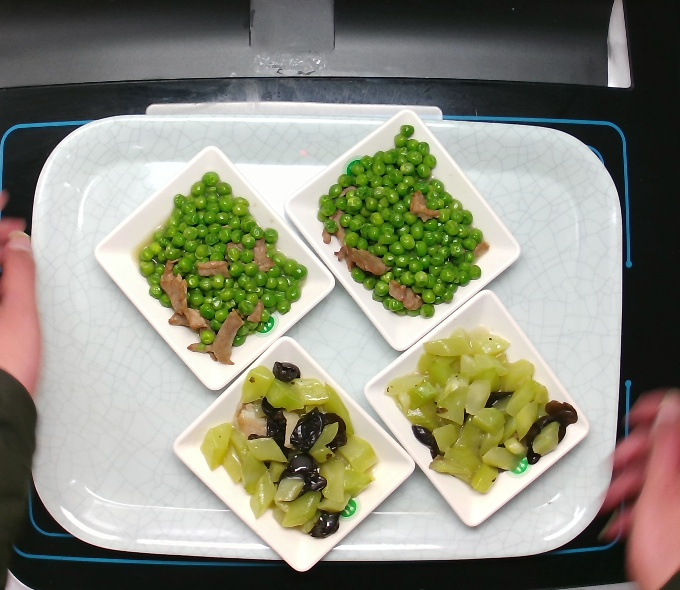wcq-CanDouRouSi: (131, 169, 312, 367), (314, 125, 486, 327)
wcq-WoSunKuai: (386, 319, 582, 503), (202, 353, 382, 546)
